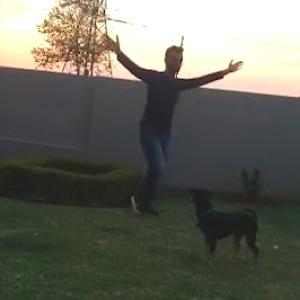takeoff: (101, 35, 238, 210)
